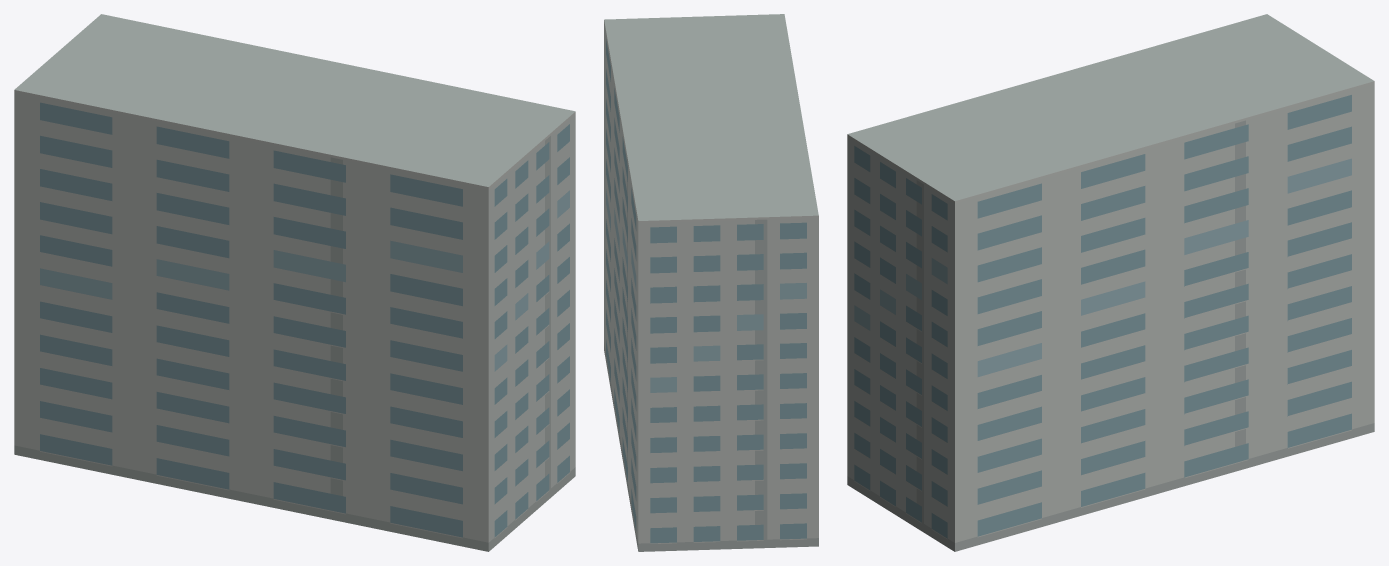
The model's file is residential-f9a87dfb-6149-4ec2-a9b9-958e11774b16.glb.
3 views of the same model, side by side, from view 1: azimuth 30°, elevation 25°; view 2: azimuth 150°, elevation 25°; view 3: azimuth 270°, elevation 25° (orthographic). The views are drawn at different scales.
Parts seen in each view (by area): view 1: residential-f9a87dfb-6149-4ec2-a9b9-958e11774b16.tmp; view 2: residential-f9a87dfb-6149-4ec2-a9b9-958e11774b16.tmp; view 3: residential-f9a87dfb-6149-4ec2-a9b9-958e11774b16.tmp.
Part boxes in pixels (x1,y1,x2,y2): residential-f9a87dfb-6149-4ec2-a9b9-958e11774b16.tmp: (14,14,575,551); residential-f9a87dfb-6149-4ec2-a9b9-958e11774b16.tmp: (604,14,818,551); residential-f9a87dfb-6149-4ec2-a9b9-958e11774b16.tmp: (847,14,1374,551).
Bounding box in the file's own units: 40.09 × 35 × 47.71.
